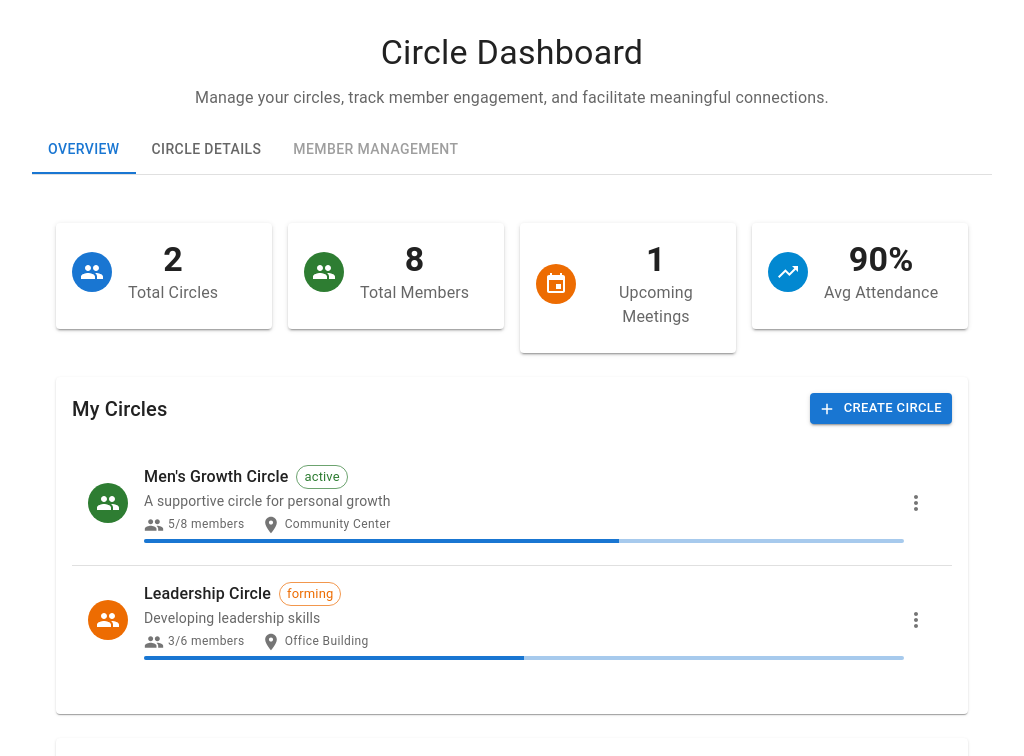
Test: CircleDashboard › Empty States › should show empty state for members when no members exist
# Select a circle
Click the heading "Men's Growth Circle". click: (216, 477)
box: [144, 463, 288, 491]
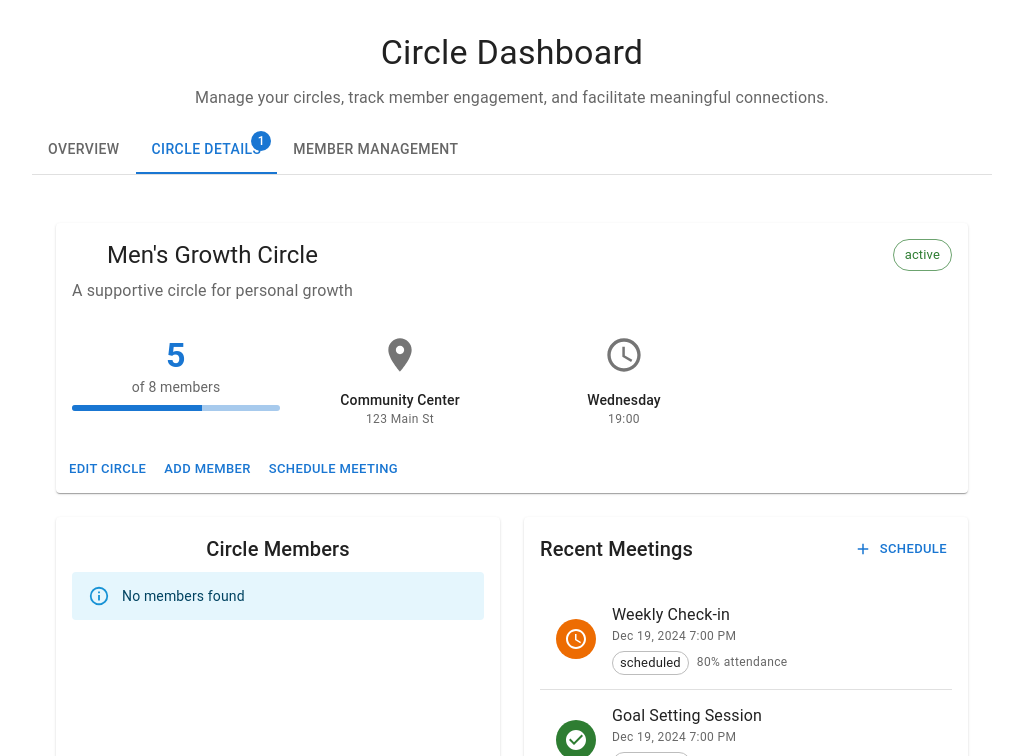
Expected: the message reads "No members found", [122, 588, 245, 604]
